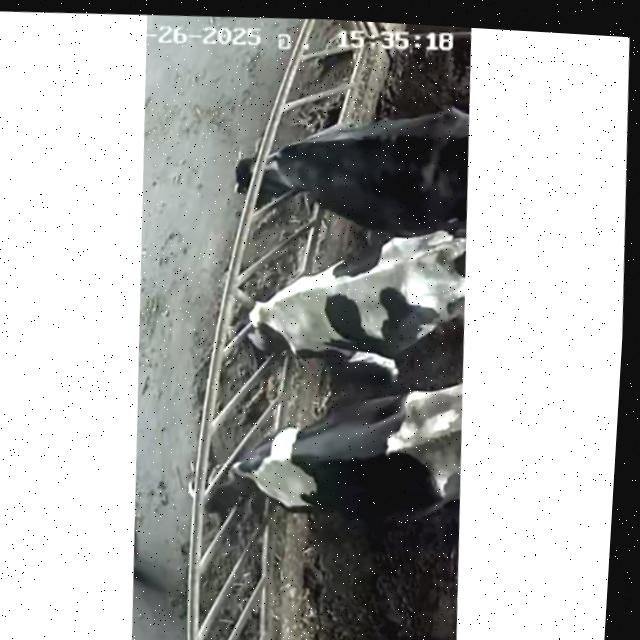eat: (159, 407, 340, 535), (166, 259, 339, 376), (194, 122, 352, 214)
